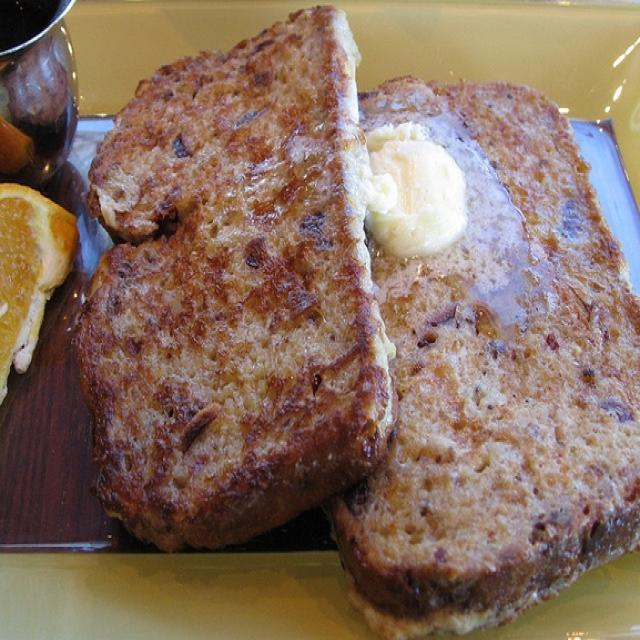面包点心: (43, 13, 636, 618)
